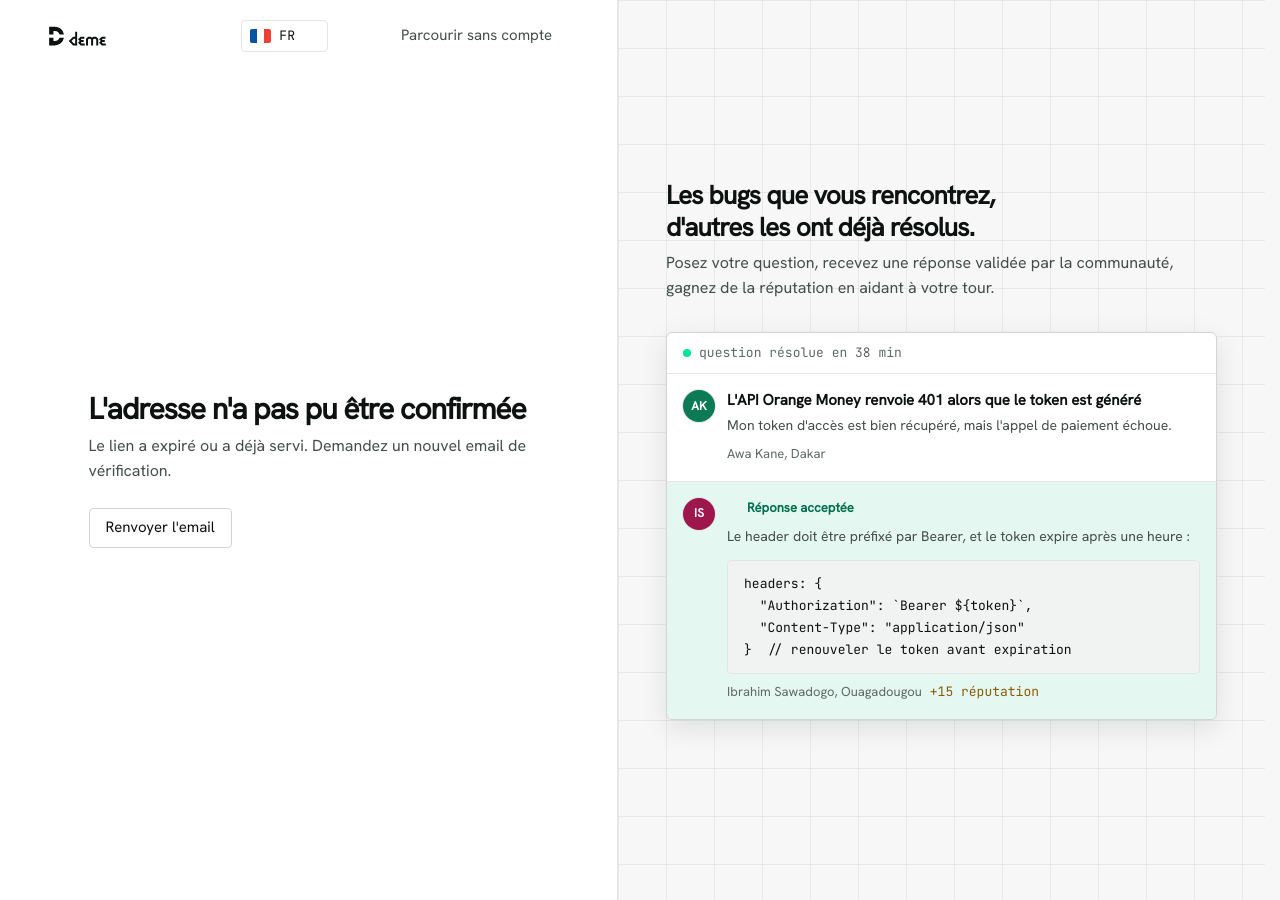
Test: Vérification de l'email (AUTH-4) › propose de renvoyer un email quand le lien a expiré
Click the button "Renvoyer l'email" at (160, 528), box [88,508,232,548]
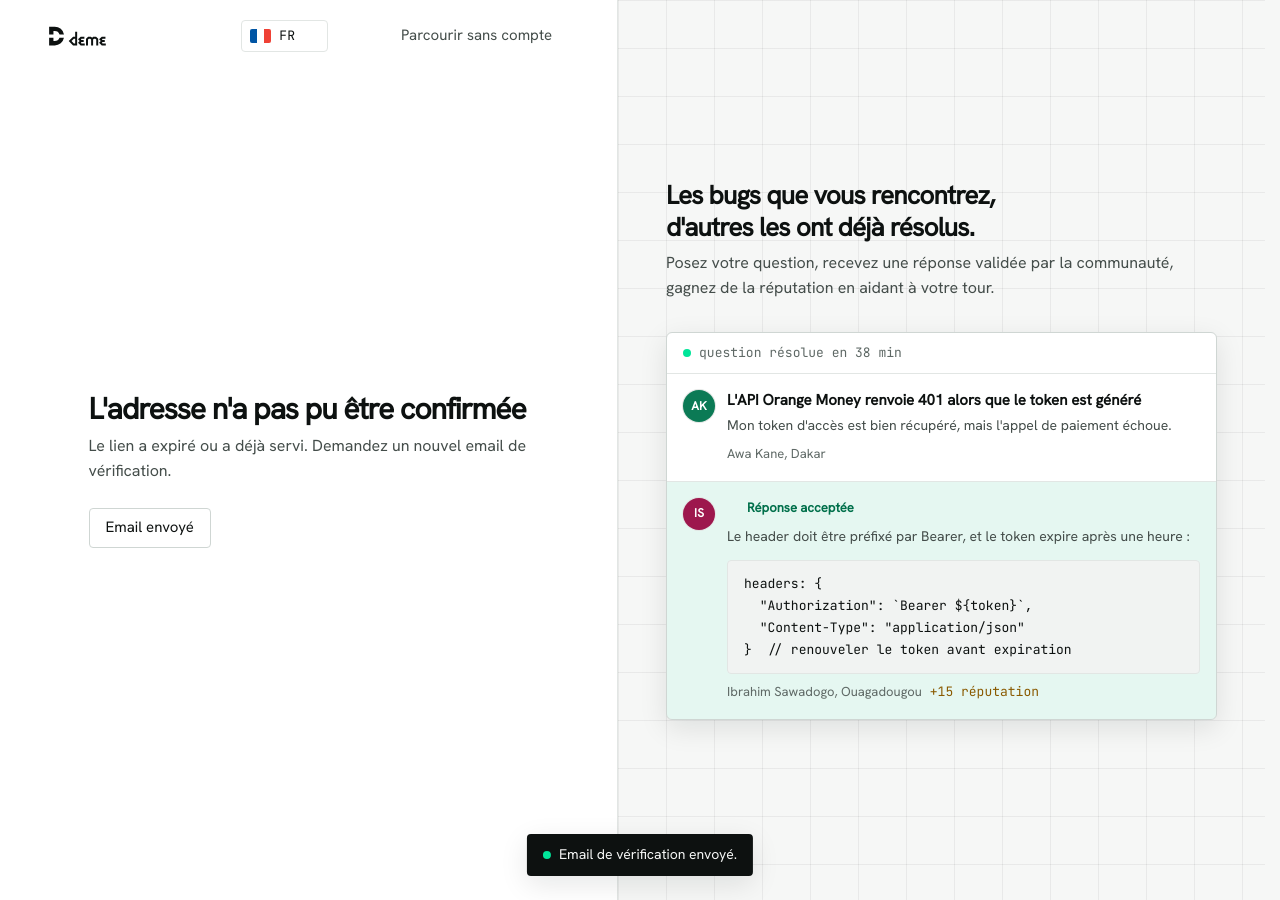
Check: the button "Email envoyé" is shown, box [88,508,211,548]
